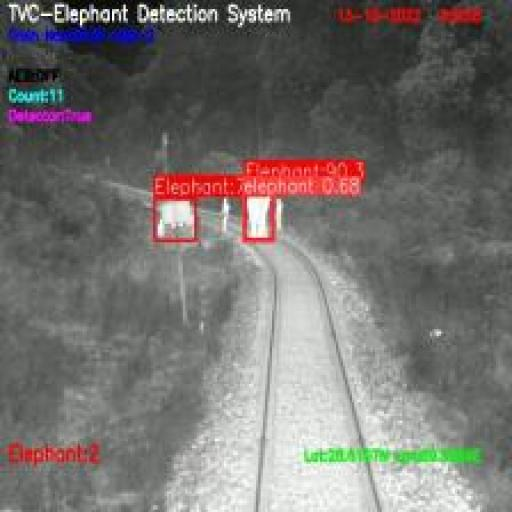Elephant: (242, 194, 273, 241)
